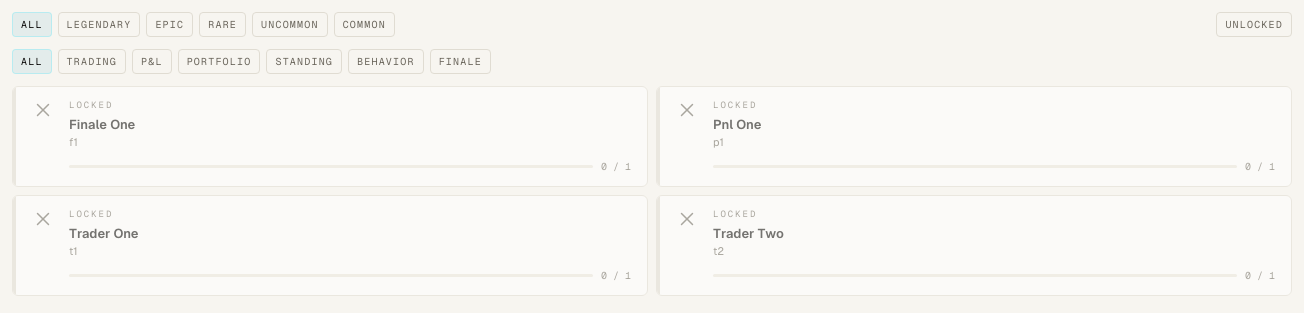
Test case: AchievementGrid category filter › clicking All in the category row clears the category filter
Click the button "Finale".
click(460, 62)  # box [430,49,491,74]
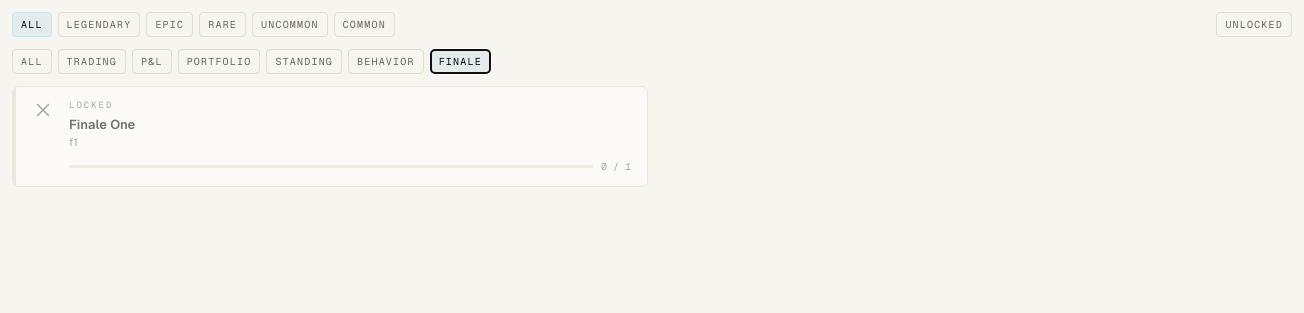
Expected: the text "Finale One" is shown, [69,116,135,132]
Expected: the text "Trader One" is gone
Click the 2nd button "All".
click(32, 62)  # box [12,49,52,74]
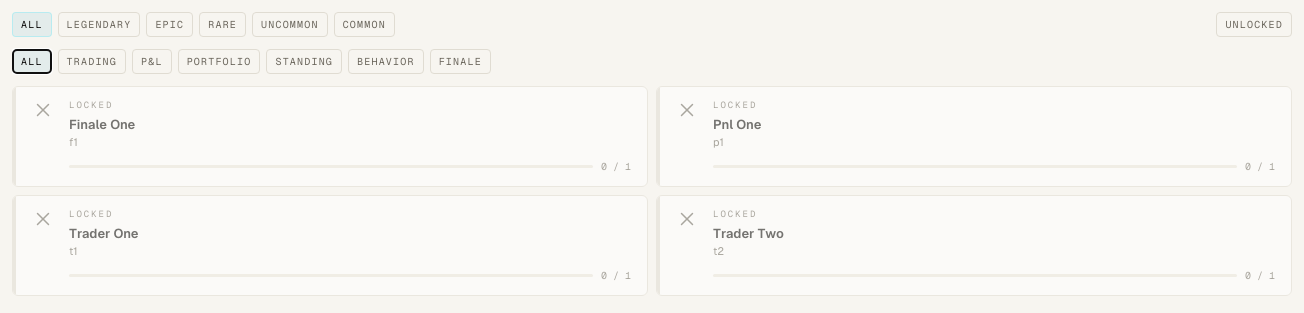
Expected: the text "Finale One" is shown, [69,116,135,132]
Expected: the text "Trader One" is shown, [69,226,139,240]
Expected: the text "Pnl One" is shown, [713,116,762,132]
